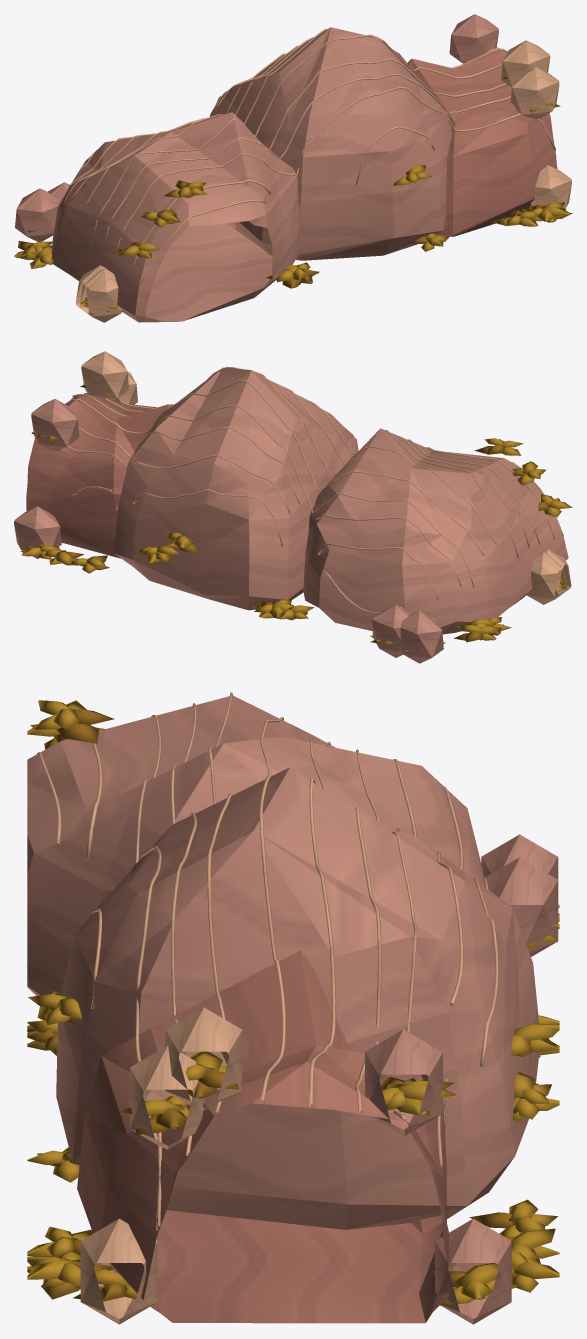
The model's file is PilotRidgeE_0.fbx.
3 renders of one model, top to bottom at view 1: azimuth 30°, elevation 25°; view 2: azimuth 150°, elevation 25°; view 3: azimuth 270°, elevation 25°, orthographic. The views are drawn at different scales.
Parts seen in each view (by area): view 1: PilotRidgeE_0__Geometry; view 2: PilotRidgeE_0__Geometry; view 3: PilotRidgeE_0__Geometry.
Part boxes in pixels (left/top/right/bottom): PilotRidgeE_0__Geometry: left=14, top=14, right=572, bottom=322; PilotRidgeE_0__Geometry: left=14, top=351, right=572, bottom=663; PilotRidgeE_0__Geometry: left=27, top=692, right=559, bottom=1324.
Size of the model in its own units: 4 by 1.63 by 2.
